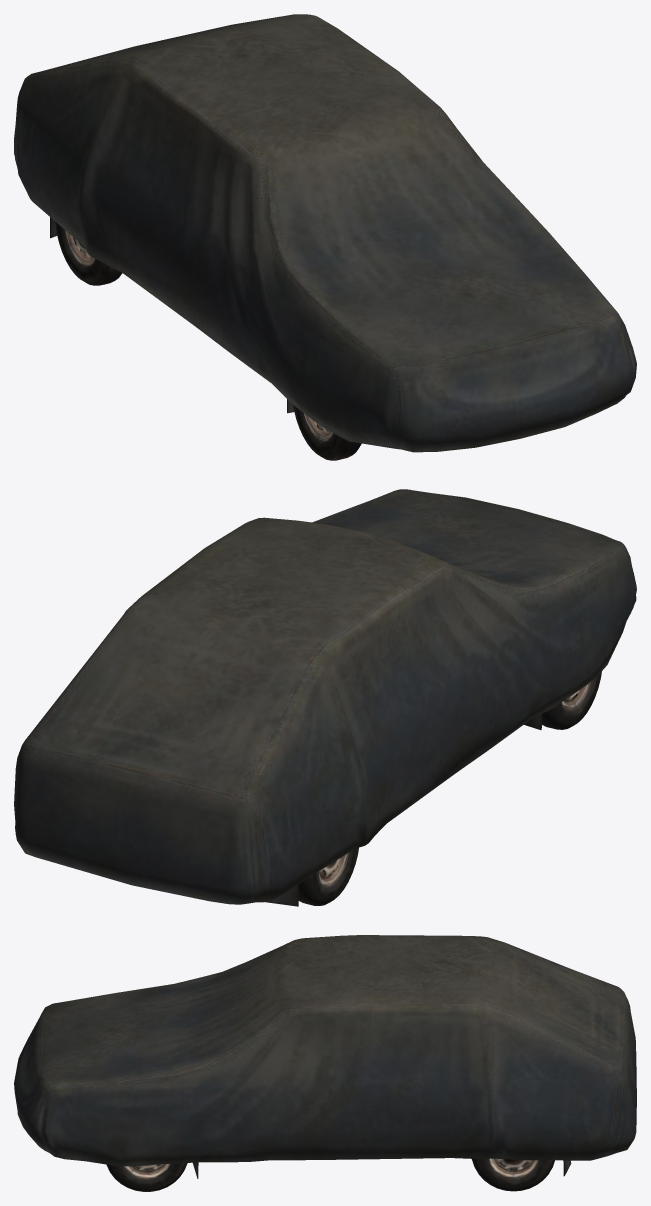
Rendered from covered_car.glb.
The picture shows the model from 3 angles, top to bottom: view 1: azimuth 30°, elevation 25°; view 2: azimuth 150°, elevation 25°; view 3: azimuth 270°, elevation 25°; orthographic projection. The views are drawn at different scales.
Size of the model in its own units: 1.79 by 1.41 by 4.38.
Materials: 1 (1 with a texture image).
